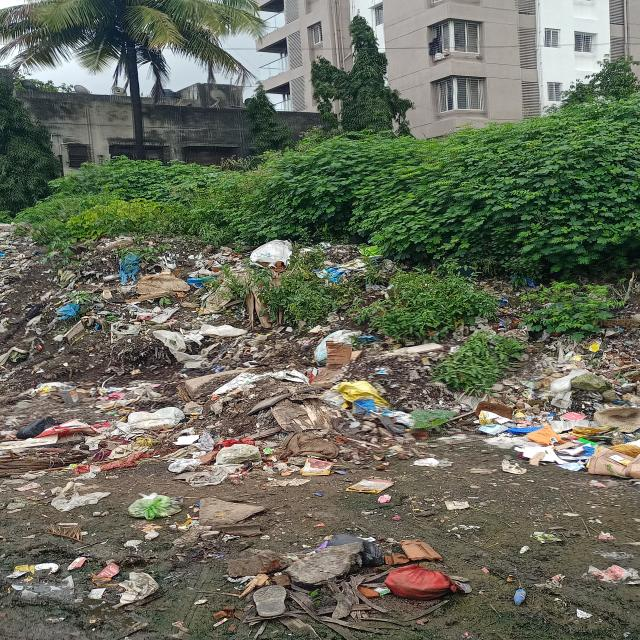garbage: (6, 226, 292, 640), (300, 246, 639, 477), (301, 522, 479, 637)
